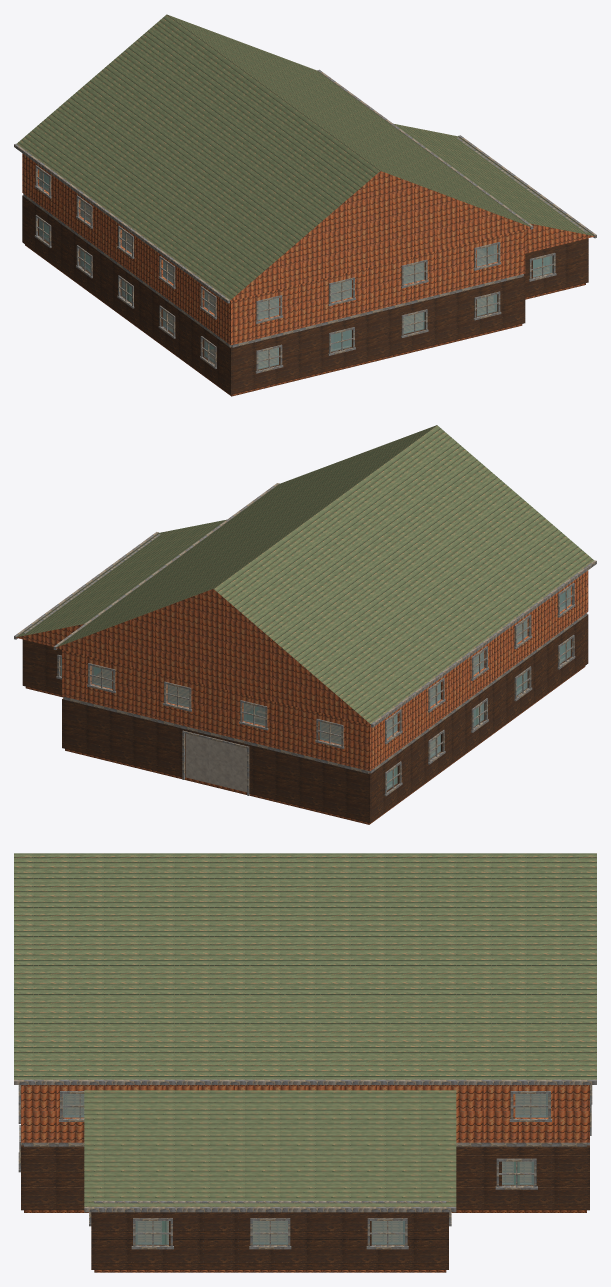
File: stone-bank-barn.gltf
The picture shows the model from 3 angles, top to bottom: view 1: azimuth 30°, elevation 25°; view 2: azimuth 150°, elevation 25°; view 3: azimuth 270°, elevation 25°; orthographic projection. The views are drawn at different scales.
Visible parts, largest first — view 1: roof-L1-slate, exterior-L0-stone, exterior-L1-wood, roof-L1-wood, roof-L0-slate, trim-L0-dark-wood, trim-L1-dark-wood, glazing-L0-glass, glazing-L1-glass, exterior-L0-dark-wood, floor-L0-floor, roof-L1-dark-wood (+2 smaller); view 2: roof-L1-slate, exterior-L0-stone, exterior-L1-wood, roof-L1-wood, roof-L0-slate, trim-L1-dark-wood, door-leaf-L0-blue-metal, glazing-L1-glass, exterior-L0-dark-wood, trim-L0-dark-wood, roof-L1-dark-wood, floor-L0-floor (+3 smaller); view 3: roof-L1-slate, roof-L0-slate, exterior-L0-stone, exterior-L1-wood, floor-L0-floor, roof-L1-dark-wood, glazing-L0-glass, trim-L0-dark-wood, roof-L0-dark-wood, exterior-L0-dark-wood, glazing-L1-glass, trim-L1-dark-wood (+1 smaller).
Part boxes in pixels (left/top/right/bottom): roof-L1-slate: left=16, top=14, right=530, bottom=300; exterior-L0-stone: left=22, top=195, right=588, bottom=394; exterior-L1-wood: left=22, top=153, right=525, bottom=345; roof-L1-wood: left=230, top=171, right=530, bottom=301; roof-L0-slate: left=393, top=123, right=593, bottom=235; trim-L0-dark-wood: left=34, top=215, right=556, bottom=373; trim-L1-dark-wood: left=34, top=165, right=501, bottom=323; glazing-L0-glass: left=39, top=219, right=552, bottom=369; glazing-L1-glass: left=39, top=170, right=497, bottom=319; exterior-L0-dark-wood: left=23, top=137, right=587, bottom=347; floor-L0-floor: left=25, top=238, right=585, bottom=396; roof-L1-dark-wood: left=14, top=69, right=533, bottom=303; roof-L1-slate: left=56, top=425, right=593, bottom=723; exterior-L0-stone: left=22, top=614, right=588, bottom=822; exterior-L1-wood: left=62, top=570, right=588, bottom=771; roof-L1-wood: left=56, top=589, right=370, bottom=724; roof-L0-slate: left=17, top=519, right=226, bottom=636; trim-L1-dark-wood: left=87, top=583, right=575, bottom=748; door-leaf-L0-blue-metal: left=185, top=733, right=246, bottom=792; glazing-L1-glass: left=91, top=587, right=570, bottom=744; exterior-L0-dark-wood: left=23, top=534, right=587, bottom=773; trim-L0-dark-wood: left=56, top=635, right=575, bottom=796; roof-L1-dark-wood: left=53, top=483, right=596, bottom=727; floor-L0-floor: left=25, top=659, right=585, bottom=824; roof-L1-slate: left=14, top=853, right=596, bottom=1079; roof-L0-slate: left=84, top=1090, right=456, bottom=1206; exterior-L0-stone: left=21, top=1145, right=589, bottom=1269; exterior-L1-wood: left=21, top=1085, right=589, bottom=1142; floor-L0-floor: left=24, top=1162, right=586, bottom=1272; roof-L1-dark-wood: left=14, top=1079, right=596, bottom=1084; glazing-L0-glass: left=135, top=1161, right=534, bottom=1244; trim-L0-dark-wood: left=18, top=1104, right=591, bottom=1249; roof-L0-dark-wood: left=84, top=1207, right=456, bottom=1212; exterior-L0-dark-wood: left=21, top=1142, right=589, bottom=1203; glazing-L1-glass: left=62, top=1094, right=548, bottom=1117; trim-L1-dark-wood: left=18, top=1085, right=592, bottom=1121.
Bounding box in the file's own units: 17.66 × 8.24 × 16.56.
Materials: 9 (8 with a texture image).
